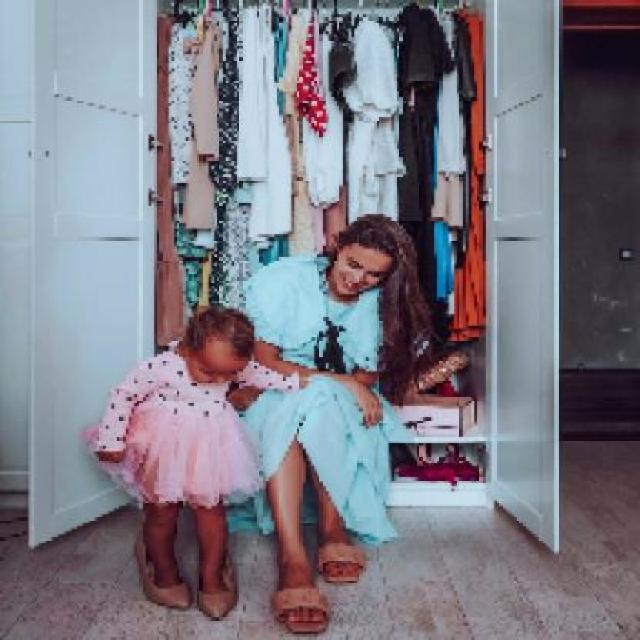child: (91, 304, 312, 590)
